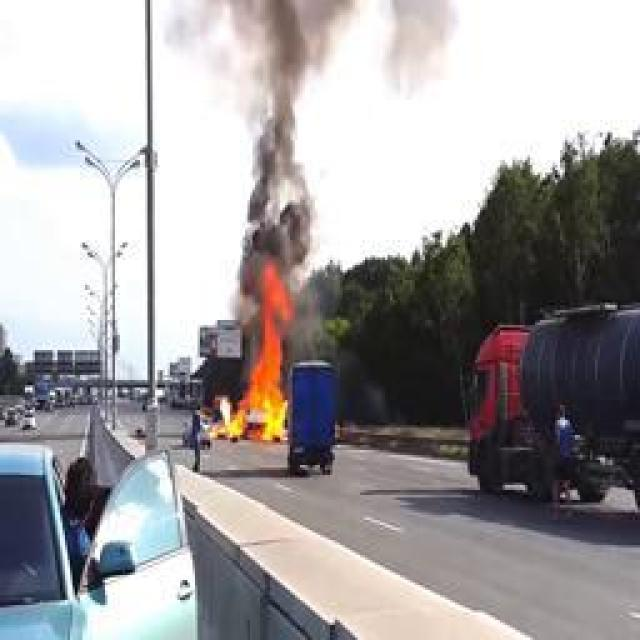Fire: (208, 262, 294, 442)
